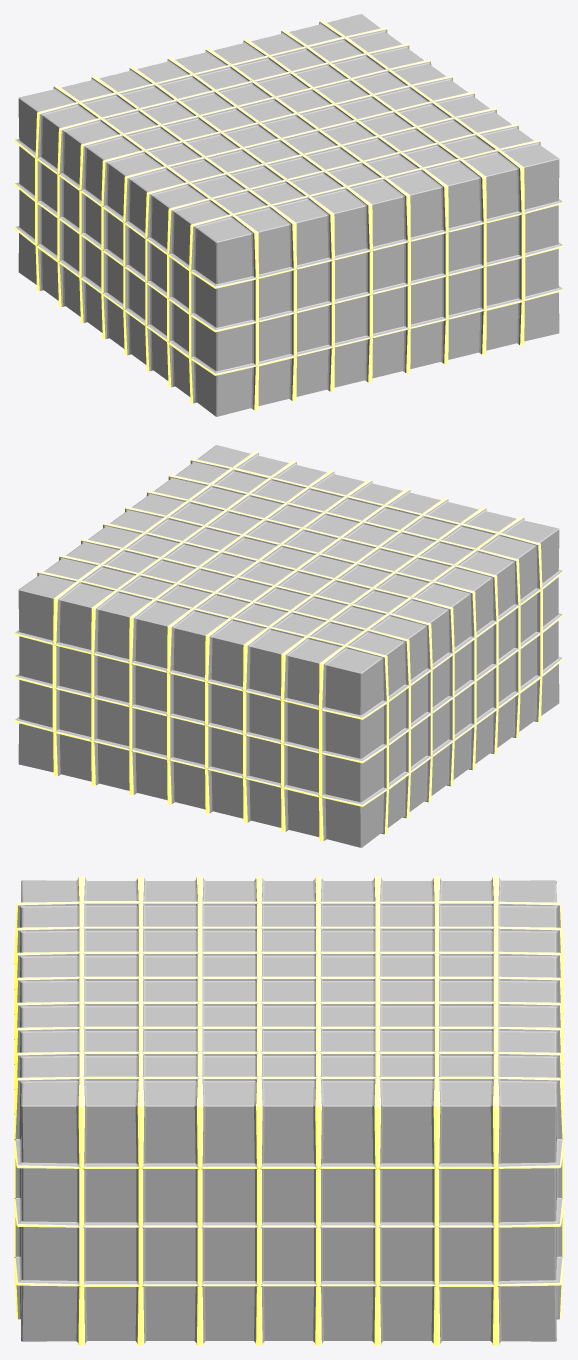
File: stanza_exp.fbx
3 renders of one model, top to bottom at view 1: azimuth 30°, elevation 25°; view 2: azimuth 150°, elevation 25°; view 3: azimuth 270°, elevation 25°, orthographic. The views are drawn at different scales.
Parts seen in each view (by area): view 1: holodeck; view 2: holodeck; view 3: holodeck.
Part boxes in pixels (<box>): holodeck: <box>14,14,563,416</box>; holodeck: <box>14,445,563,847</box>; holodeck: <box>14,876,563,1345</box>.
Size of the model in its own units: 2121 by 1103 by 2121.
